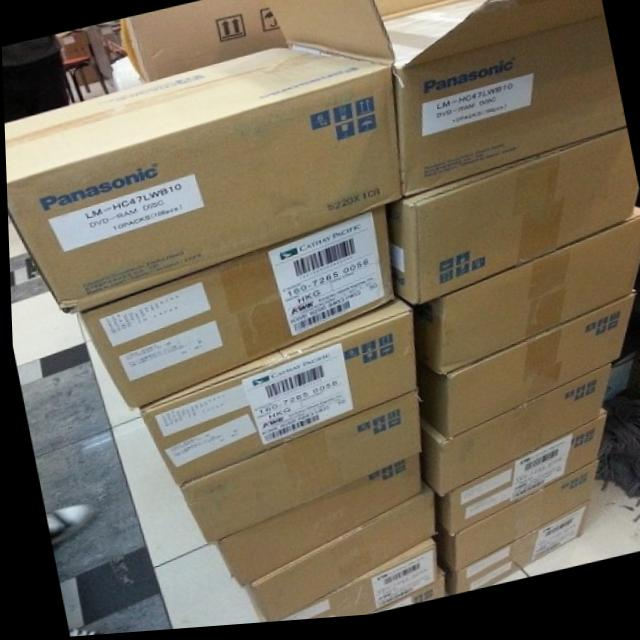box: (4, 50, 401, 318), (261, 0, 626, 204), (74, 210, 394, 414), (134, 304, 415, 491), (385, 137, 637, 313), (410, 215, 640, 382), (175, 394, 420, 550), (414, 298, 634, 445), (239, 485, 434, 626), (210, 460, 418, 592), (416, 372, 609, 504), (430, 417, 605, 542), (426, 467, 595, 578), (435, 508, 586, 602), (121, 0, 289, 84), (267, 544, 434, 626), (363, 571, 441, 619)
